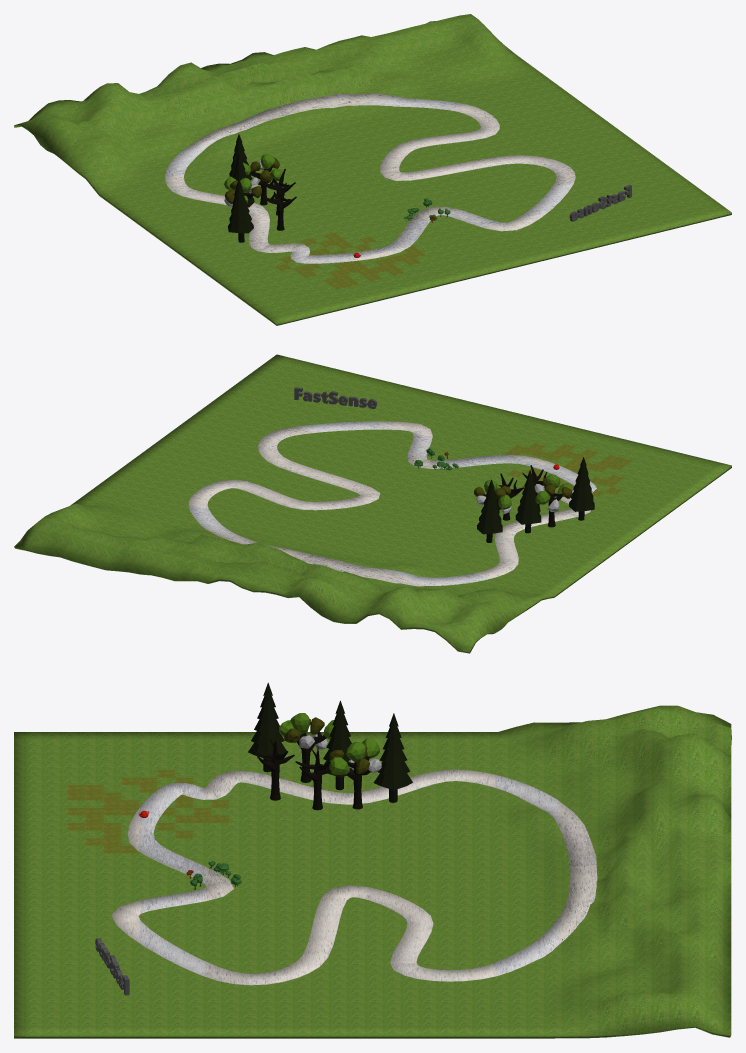
File: smallworld.dae
3 views of the same model, one above another, from view 1: azimuth 30°, elevation 25°; view 2: azimuth 150°, elevation 25°; view 3: azimuth 270°, elevation 25° (orthographic). The views are drawn at different scales.
Visible parts, largest first — view 1: LoftFBXASC032Ausgerichtet, Arbre_Normal_Cylinder_002, m, Text001, Arbre_Normal_Cylinder_003; view 2: LoftFBXASC032Ausgerichtet, Arbre_Normal_Cylinder_003, SapinHiver_015_Cylinder_034, m, SapinHiver_015_Cylinder_036, Text001, Arbre_Normal_Cylinder_002; view 3: LoftFBXASC032Ausgerichtet, Arbre_Normal_Cylinder_002, SapinHiver_015_Cylinder_034, Arbre_Normal_Cylinder_003, m, SapinHiver_015_Cylinder_036, Arbre_Automne_Cylinder_003, Arbre_Automne_Cylinder_004, Text001.
Part boxes in pixels (box(x1,y1,x2,y2)): LoftFBXASC032Ausgerichtet: box(14, 14, 731, 325); Arbre_Normal_Cylinder_002: box(243, 154, 282, 205); m: box(228, 179, 253, 242); Text001: box(569, 184, 631, 221); Arbre_Normal_Cylinder_003: box(224, 176, 261, 206); LoftFBXASC032Ausgerichtet: box(14, 354, 731, 653); Arbre_Normal_Cylinder_003: box(534, 474, 572, 527); SapinHiver_015_Cylinder_034: box(477, 479, 502, 542); m: box(569, 457, 594, 520); SapinHiver_015_Cylinder_036: box(515, 470, 541, 533); Text001: box(294, 387, 376, 408); Arbre_Normal_Cylinder_002: box(474, 480, 511, 513); LoftFBXASC032Ausgerichtet: box(14, 705, 731, 1038); Arbre_Normal_Cylinder_002: box(329, 738, 381, 809); SapinHiver_015_Cylinder_034: box(373, 713, 412, 802); Arbre_Normal_Cylinder_003: box(279, 713, 333, 782); m: box(248, 682, 286, 772); SapinHiver_015_Cylinder_036: box(323, 700, 351, 790); Arbre_Automne_Cylinder_003: box(253, 736, 294, 800); Arbre_Automne_Cylinder_004: box(295, 747, 330, 810); Text001: box(95, 938, 129, 995).
Bounding box in the file's own units: 80.07 × 80.07 × 11.39.
13 materials, 5 textured.
